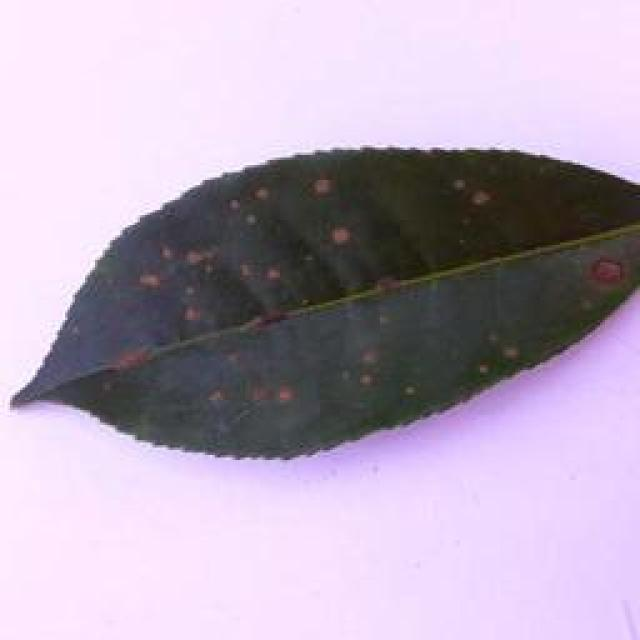Algal Leaf Spot: (14, 134, 640, 462)
